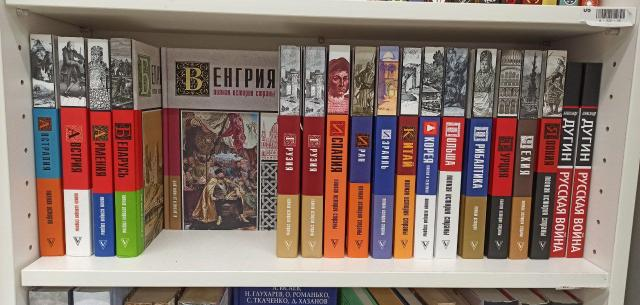book-s-spine: (531, 50, 567, 259), (30, 34, 63, 256), (435, 48, 469, 259), (463, 49, 497, 259), (488, 49, 522, 259), (58, 37, 90, 256), (567, 63, 602, 258), (510, 50, 542, 259), (550, 62, 583, 257), (414, 47, 444, 259), (394, 47, 422, 258), (348, 47, 375, 258), (111, 38, 137, 257), (88, 39, 114, 256), (324, 45, 350, 258), (373, 46, 399, 259), (302, 47, 326, 258), (277, 46, 300, 257)
